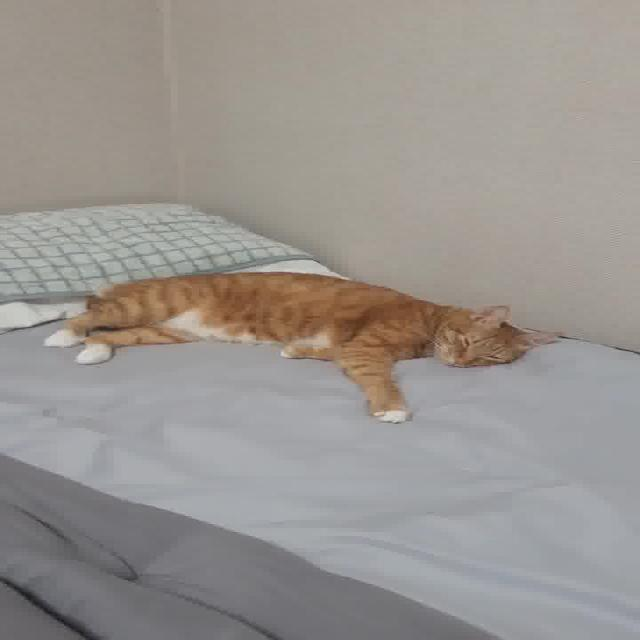cat: (0, 247, 592, 438)
